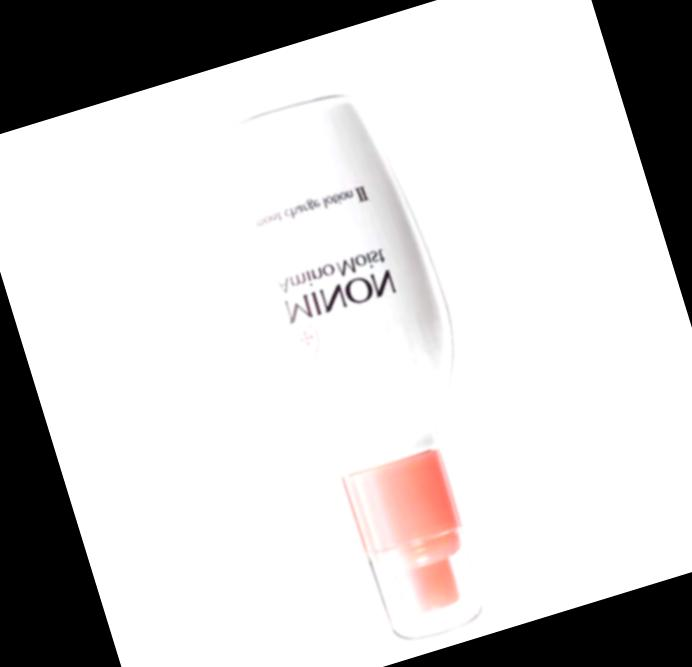cosmetic: (183, 74, 542, 667)
